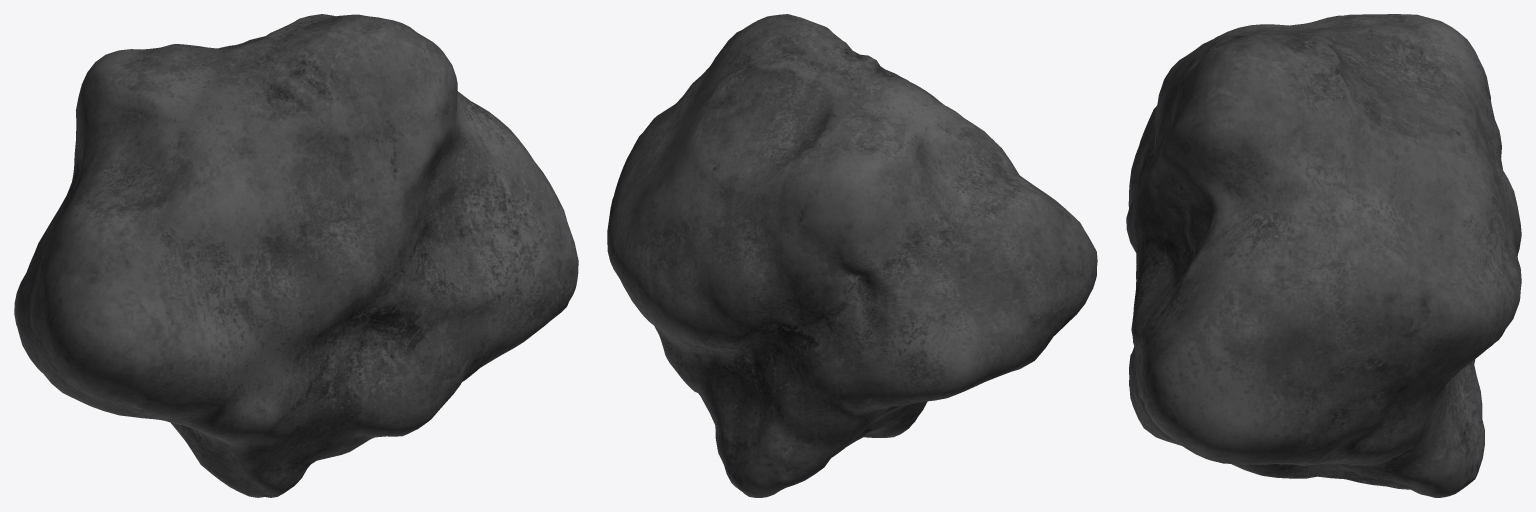
The model's file is asteroide.gltf.
3 views of the same model, side by side, from view 1: azimuth 30°, elevation 25°; view 2: azimuth 150°, elevation 25°; view 3: azimuth 270°, elevation 25° (orthographic). The views are drawn at different scales.
Parts seen in each view (by area): view 1: Group24690; view 2: Group24690; view 3: Group24690.
Boxes of the visible parts, x1,y1,x2,y2 form: Group24690: (14,14,578,497); Group24690: (607,14,1097,497); Group24690: (1126,14,1521,497).
Size of the model in its own units: 4.2 by 3.61 by 2.72.
Materials: 1 (1 with a texture image).
